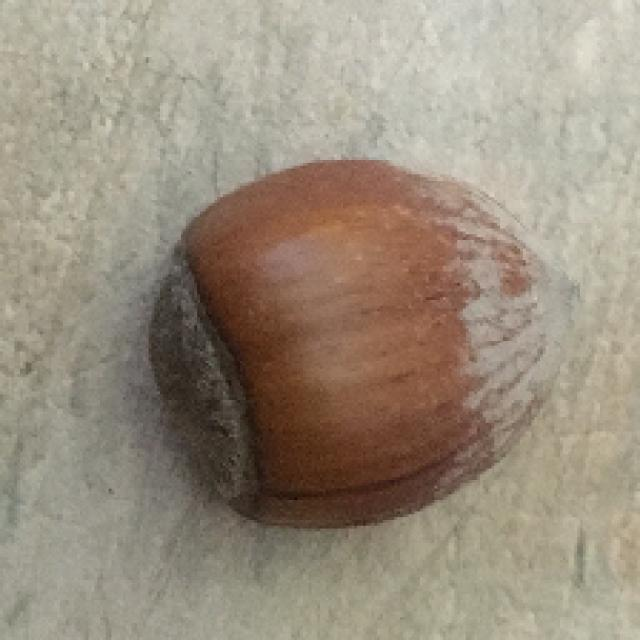qualityHazelnut: (152, 156, 572, 529)
